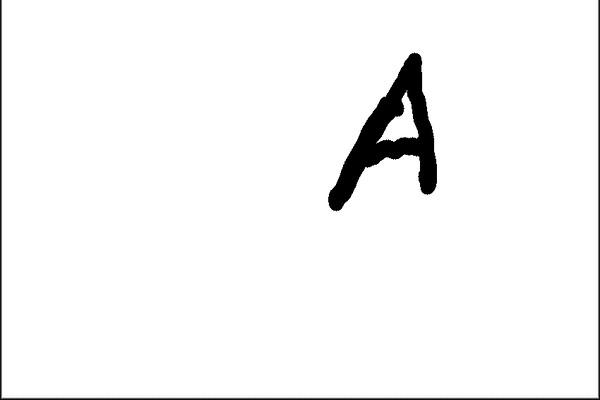A: (313, 42, 457, 226)
